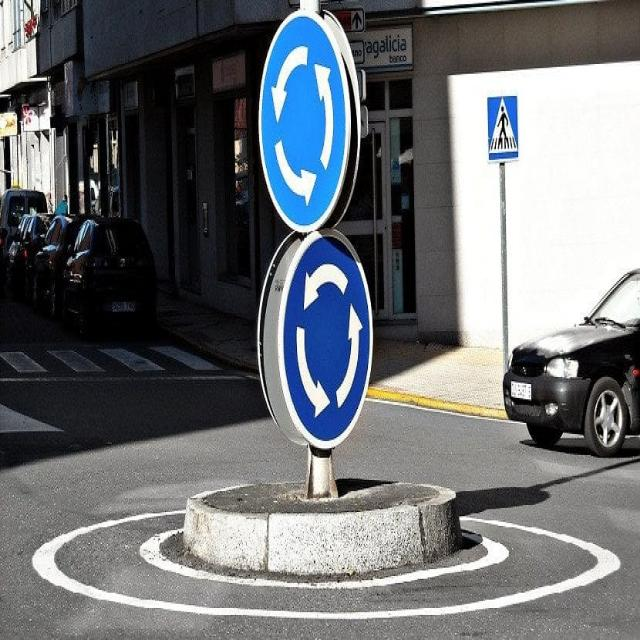roundabout: (273, 224, 382, 461), (254, 2, 363, 222)
